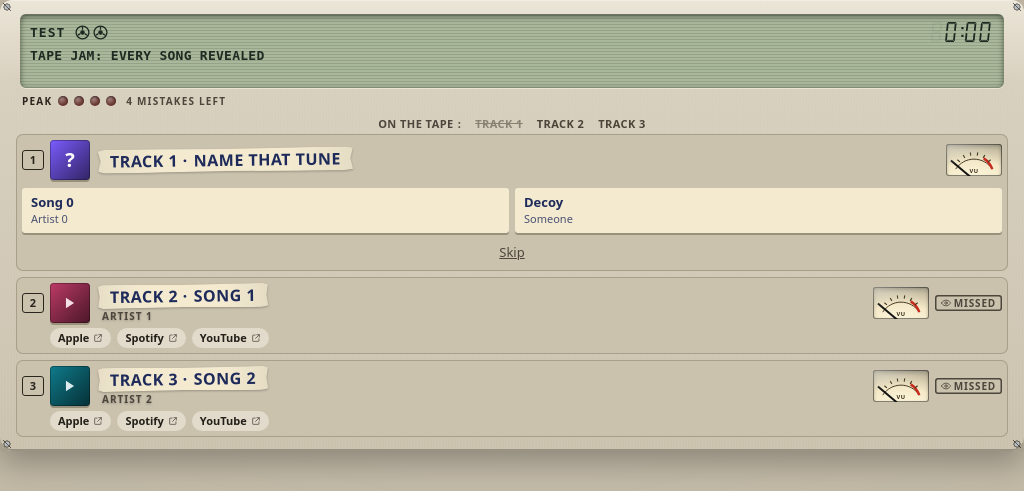
Test case: Puzzle › fetches a solved song’s choices, and its title only after a pick
Click the button "Song 0 Artist 0": (52, 202) [22, 188, 509, 232]
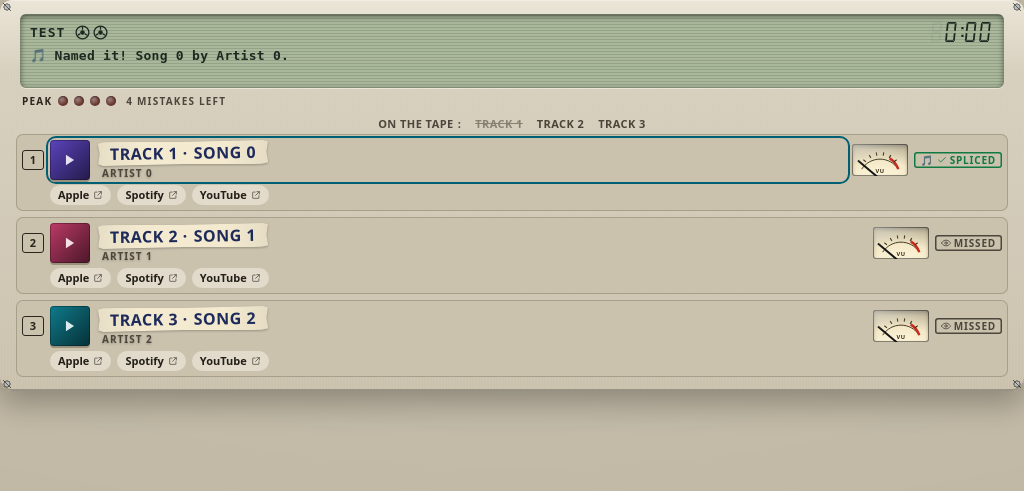
Result: the text "🎵 Named it! Song 0 by Artist 0." is shown at [30, 48, 289, 63]
